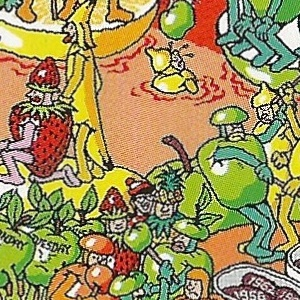Odlaw: (142, 118, 158, 182)
